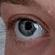eye: (18, 20, 36, 36)
